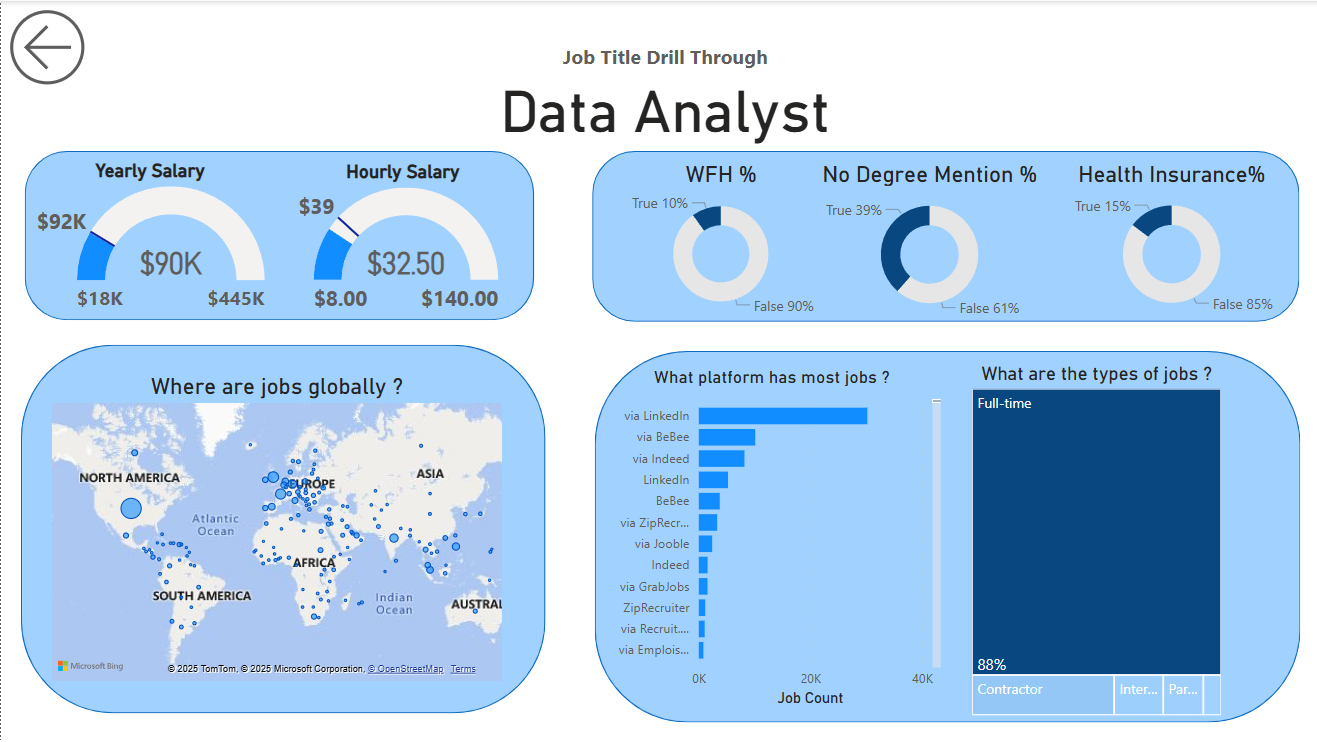

The dashboard page shown, as its layout file describes it:
{"tool":"powerbi","page":{"name":"Job Title Drill Through","canvas":[1280,720],"ordinal":1},"visuals":[{"type":"shape","box":[23.4,144.9,491.6,163.4],"z":0,"group":"g1"},{"type":"group","id":"g1","title":"Background","box":[19.8,144.9,1234.9,551.1],"z":500},{"type":"cardVisual","fields":{"Data":["Min(job_postings_flat.job_title_short)1"]},"box":[333.9,0,614.4,178.7],"z":1000},{"type":"shape","box":[571.4,145,682.5,164.8],"z":1000,"group":"g1"},{"type":"actionButton","box":[0,0,89.4,89.4],"z":2000},{"type":"shape","box":[19.8,331.6,506.1,355.7],"z":2000,"group":"g1"},{"type":"gauge","title":"Yearly Salary","fields":{"Y":["Median(job_postings_flat.salary_year_avg)"],"MinValue":["Min(job_postings_flat.salary_year_avg)1"],"MaxValue":["Max(job_postings_flat.salary_year_avg)2"],"TargetValue":["Avg(job_postings_flat.salary_year_avg)3"]},"box":[0,153.3,287.8,156.2],"z":3000},{"type":"shape","box":[573.6,337.4,681.1,358.6],"z":3000,"group":"g1"},{"type":"gauge","title":"Hourly Salary","fields":{"Y":["Median(job_postings_flat.salary_hour_avg)"],"TargetValue":["Avg(job_postings_flat.salary_hour_avg)1"],"MinValue":["Min(job_postings_flat.salary_hour_avg)"],"MaxValue":["Max(job_postings_flat.salary_hour_avg)"]},"box":[234.3,154.7,308,156.2],"z":4000},{"type":"donutChart","title":"No Degree Mention %","fields":{"Y":["CountNonNull(job_postings_flat.job_title_short)"],"Category":["job_postings_flat.job_no_degree_mention"]},"box":[776.9,154.4,238.9,156.8],"z":5000},{"type":"donutChart","title":"WFH %","fields":{"Category":["job_postings_flat.job_work_from_home"],"Y":["CountNonNull(job_postings_flat.job_title_short)"]},"box":[587.5,154.4,214.7,155.6],"z":6000},{"type":"donutChart","title":"Health Insurance%","fields":{"Category":["job_postings_flat.job_health_insurance","job_postings_flat.job_work_from_home"],"Y":["CountNonNull(job_postings_flat.job_title_short)"]},"box":[1005,154.7,250.2,156.2],"z":7000},{"type":"map","title":"Where are jobs globally ?","fields":{"Category":["job_postings_flat.job_country"],"Size":["CountNonNull(job_postings_flat.job_title_short)"]},"box":[44.6,359.5,444,301.6],"z":8000},{"type":"treemap","title":"What are the types of jobs ?","fields":{"Values":["CountNonNull(job_postings_flat.job_schedule_type)"],"Group":["job_postings_flat.job_schedule_type"]},"box":[932.7,348.5,250.2,345.6],"z":9000},{"type":"barChart","title":"What platform has most jobs ?","fields":{"Category":["job_postings_flat.job_via"],"Y":["CountNonNull(job_postings_flat.job_via)"]},"box":[577,352.8,335.5,334],"z":10000}]}

Visuals, with their boxes in screenshot pixels (x1, y1, x2, y2), scaled from the page's 1280x720 canvas onto the 1317x742 screenshot:
shape: bbox=[24, 149, 530, 318]
"Background" group: bbox=[20, 149, 1291, 717]
cardVisual - Min(job_postings_flat.job_title_short)1: bbox=[344, 0, 976, 184]
shape: bbox=[588, 149, 1290, 319]
actionButton: bbox=[0, 0, 92, 92]
shape: bbox=[20, 342, 541, 708]
"Yearly Salary" gauge: bbox=[0, 158, 296, 319]
shape: bbox=[590, 348, 1291, 717]
"Hourly Salary" gauge: bbox=[241, 159, 558, 320]
"No Degree Mention %" donutChart: bbox=[799, 159, 1045, 321]
"WFH %" donutChart: bbox=[604, 159, 825, 319]
"Health Insurance%" donutChart: bbox=[1034, 159, 1291, 320]
"Where are jobs globally ?" map: bbox=[46, 370, 503, 681]
"What are the types of jobs ?" treemap: bbox=[960, 359, 1217, 715]
"What platform has most jobs ?" barChart: bbox=[594, 364, 939, 708]
